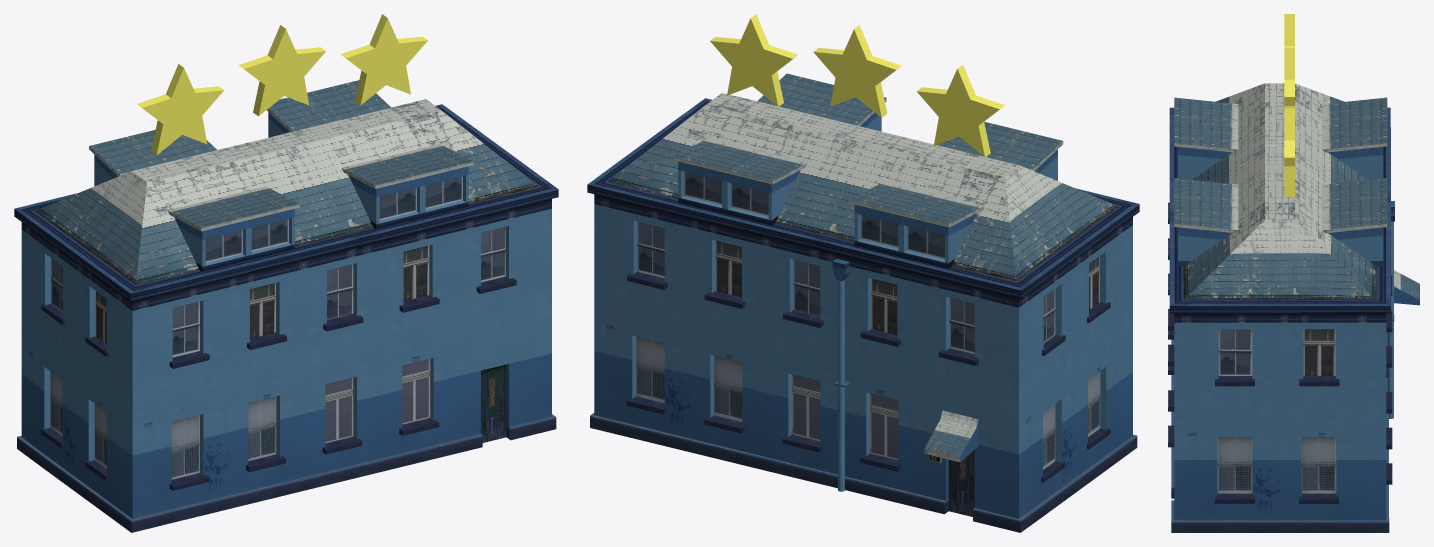
Rendered from 三星级酒店.gltf.
3 renders of one model, left to right at view 1: azimuth 30°, elevation 25°; view 2: azimuth 150°, elevation 25°; view 3: azimuth 270°, elevation 25°, orthographic. The views are drawn at different scales.
Visible parts, largest first — view 1: node__-13900, node_star (2)_-13910, node_star (1)_-13908, node_star (3)_-13912; view 2: node__-13900, node_star (3)_-13912, node_star (2)_-13910, node_star (1)_-13908; view 3: node__-13900, node_star (3)_-13912, node_star (1)_-13908, node_star (2)_-13910.
Boxes of the visible parts, <box> form: node__-13900: <box>14,80,558,532</box>; node_star (2)_-13910: <box>137,64,223,155</box>; node_star (1)_-13908: <box>239,25,325,116</box>; node_star (3)_-13912: <box>340,14,427,105</box>; node__-13900: <box>587,73,1139,532</box>; node_star (3)_-13912: <box>710,14,798,106</box>; node_star (2)_-13910: <box>916,64,1004,157</box>; node_star (1)_-13908: <box>813,25,901,117</box>; node__-13900: <box>1168,83,1419,532</box>; node_star (3)_-13912: <box>1284,108,1294,197</box>; node_star (1)_-13908: <box>1284,47,1294,108</box>; node_star (2)_-13910: <box>1284,14,1294,47</box>.
Size of the model in its own units: 10.56 by 9.58 by 5.64.
